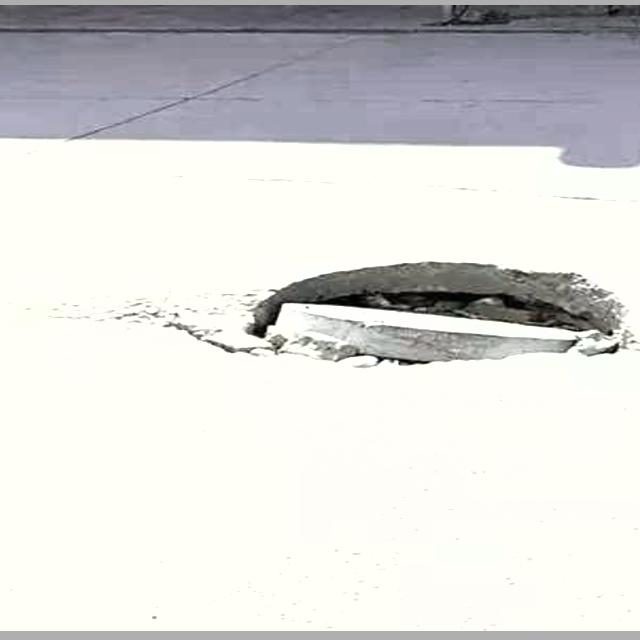circle: (111, 245, 640, 399)
